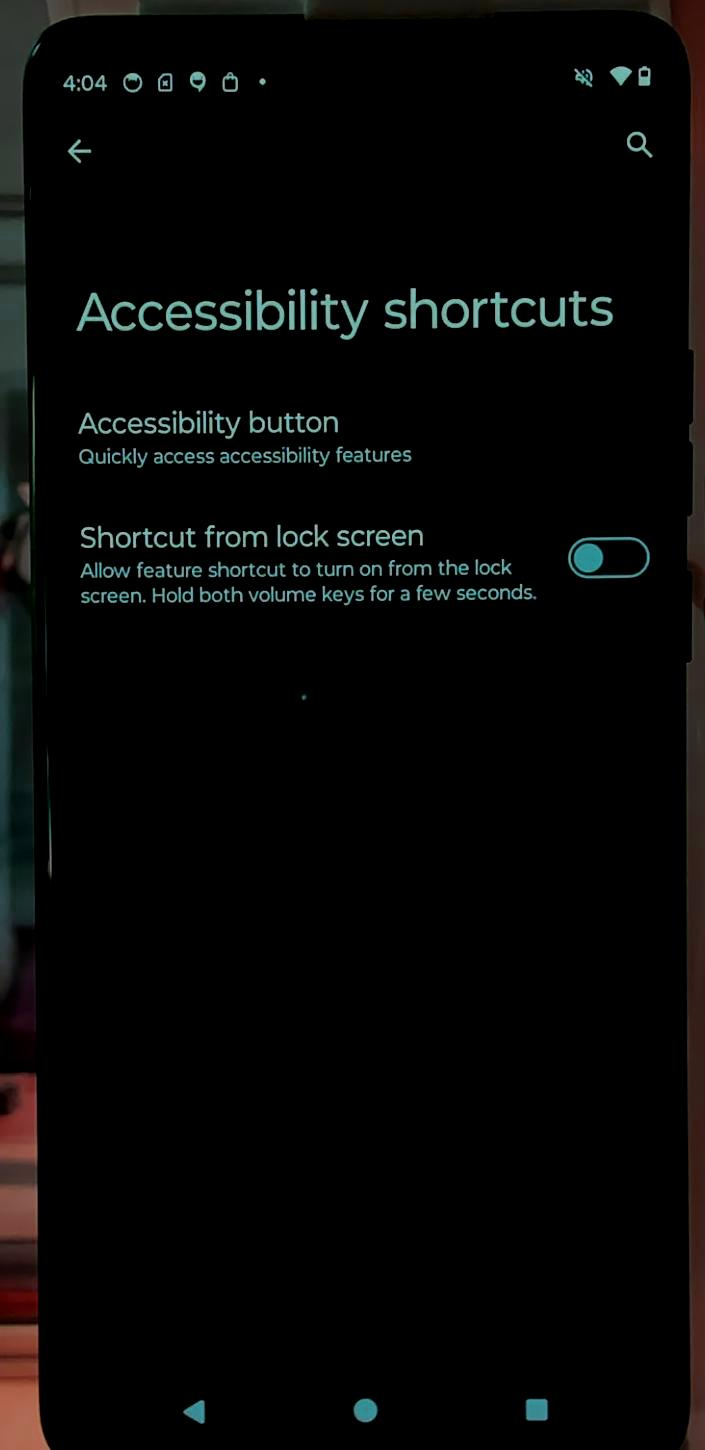Checkbox: (58, 508, 661, 614)
